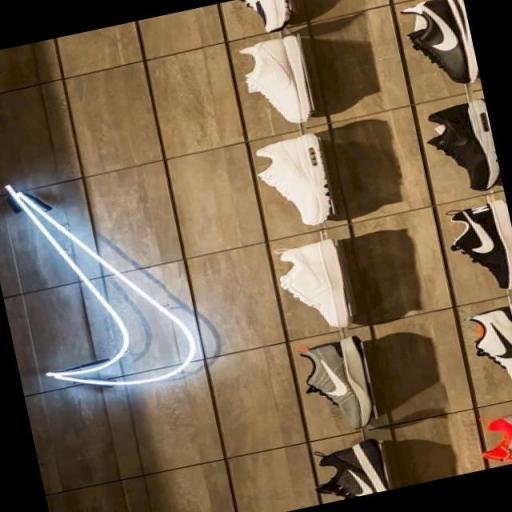Nike: (5, 151, 204, 400)
